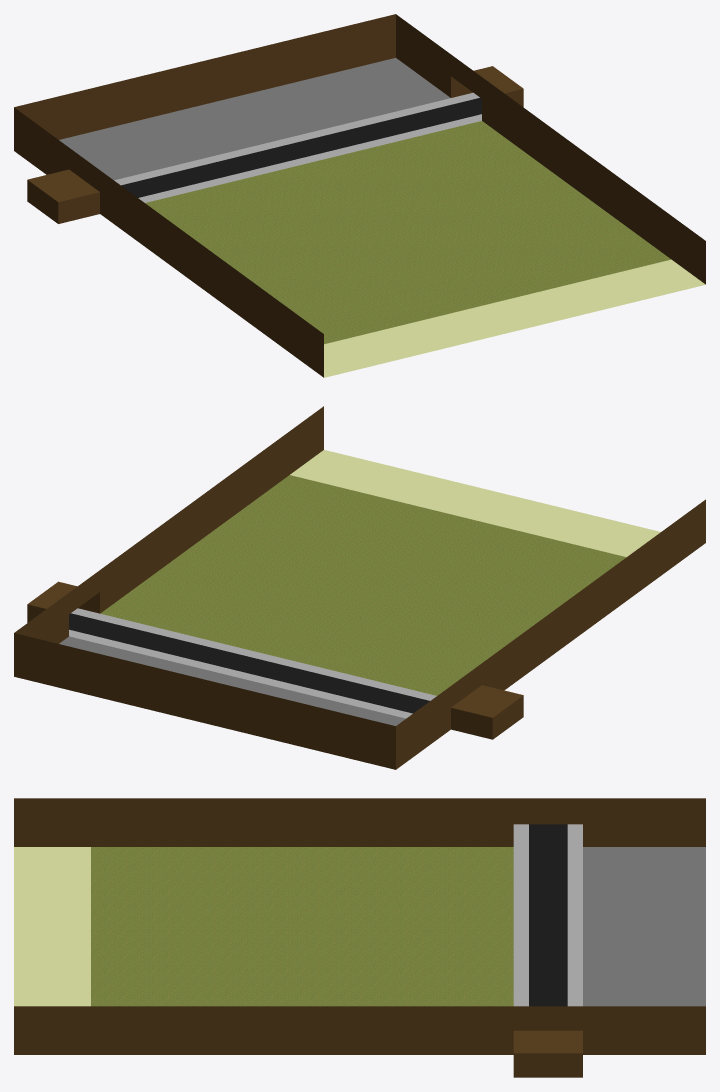
File: island.glb
3 views of the same model, one above another, from view 1: azimuth 30°, elevation 25°; view 2: azimuth 150°, elevation 25°; view 3: azimuth 270°, elevation 25° (orthographic). The views are drawn at different scales.
Visible parts, largest first — view 1: island-col; view 2: island-col; view 3: island-col.
Part boxes in pixels (x1=…): island-col: x1=14, y1=14, x2=705, y2=377; island-col: x1=14, y1=406, x2=705, y2=769; island-col: x1=14, y1=798, x2=705, y2=1077.
Size of what is drawn, in the model's own units: 78 by 7 by 90.
Materials: 6 (1 with a texture image).
